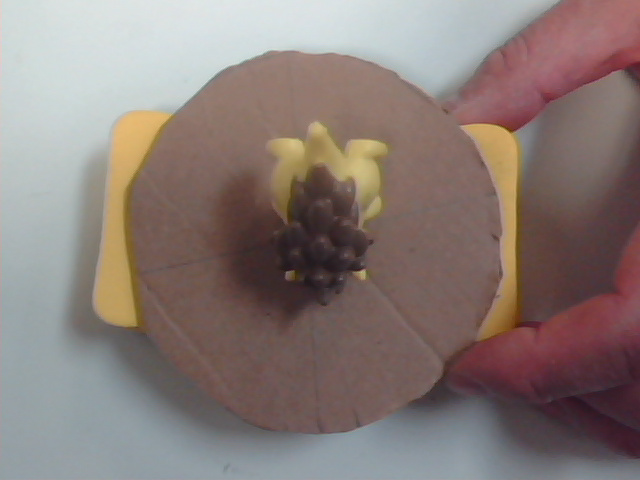sandslash: (205, 108, 428, 325)
